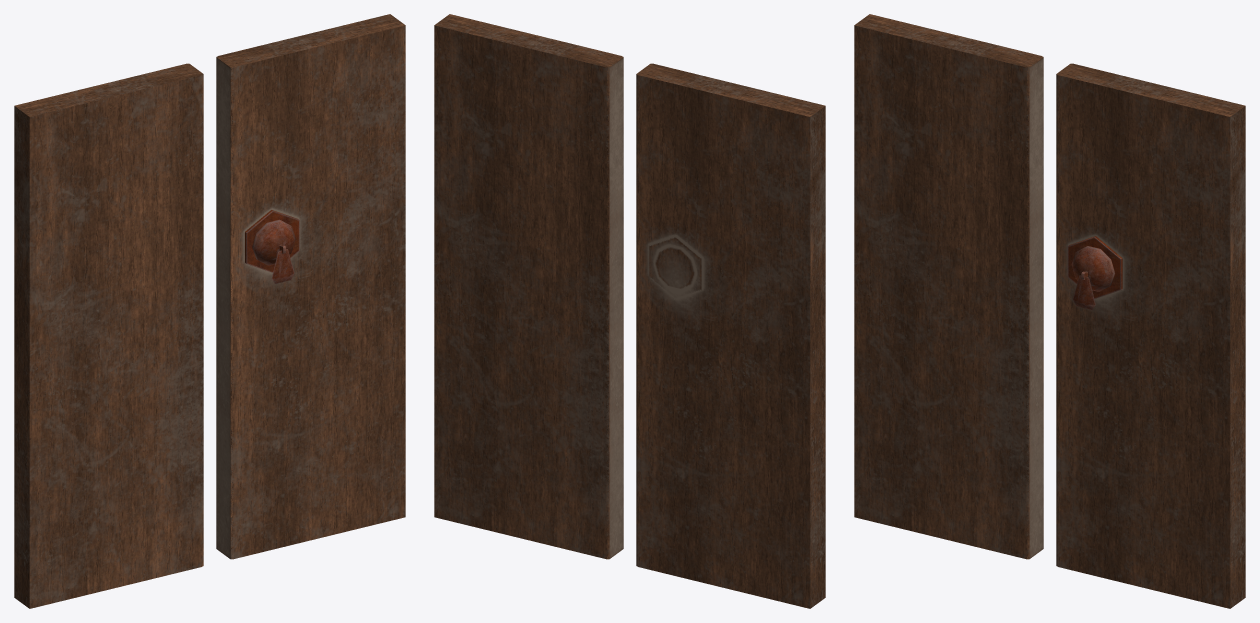
File: hutong_door_a.fbx
3 views of the same model, side by side, from view 1: azimuth 30°, elevation 25°; view 2: azimuth 150°, elevation 25°; view 3: azimuth 330°, elevation 25° (orthographic).
Visible parts, largest first — view 1: door_a_l, door_a_r, door_knock_b; view 2: door_a_l, door_a_r; view 3: door_a_l, door_a_r, door_knock_b.
Boxes of the visible parts, box(x1,y1,x2,y2) form: door_a_l: box(14, 63, 203, 608); door_a_r: box(216, 14, 405, 559); door_knock_b: box(245, 210, 299, 283); door_a_l: box(636, 63, 825, 608); door_a_r: box(434, 14, 623, 559); door_a_l: box(854, 14, 1043, 559); door_a_r: box(1056, 63, 1245, 608); door_knock_b: box(1067, 236, 1122, 309).
Size of the model in its own units: 140 by 175 by 18.54.
2 materials, 2 textured.
